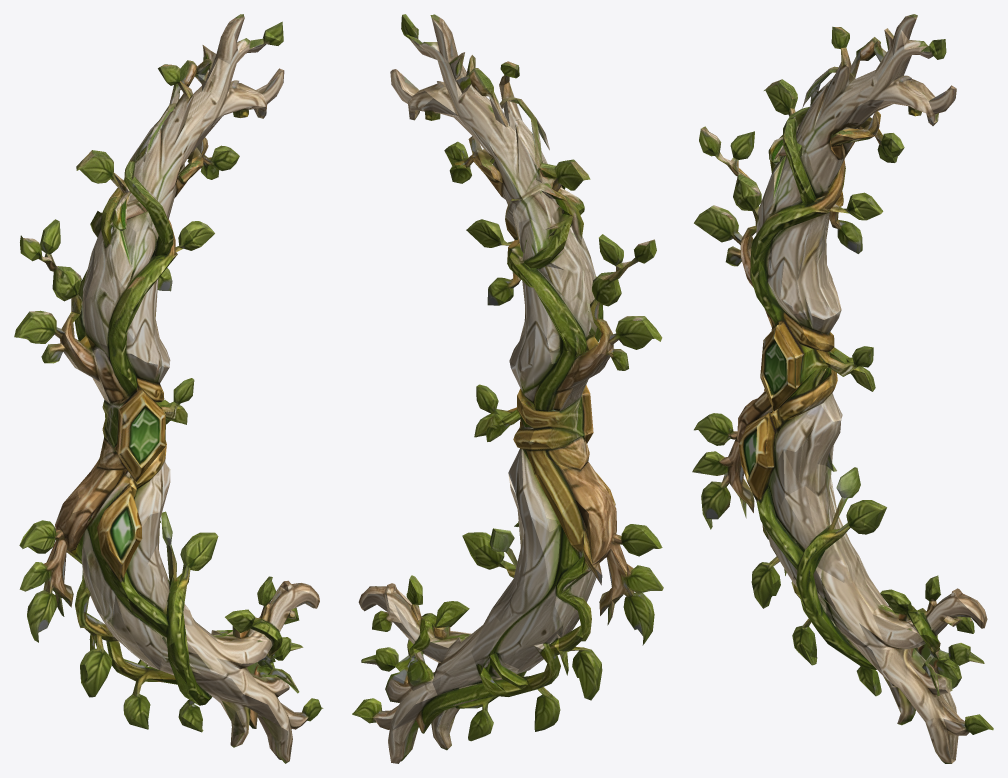
File: dawnpiercer_bow.glb
3 views of the same model, side by side, from view 1: azimuth 30°, elevation 25°; view 2: azimuth 150°, elevation 25°; view 3: azimuth 330°, elevation 25° (orthographic). The views are drawn at different scales.
Bounding box in the file's own units: 0.8097 × 1.9 × 0.2242.
1 material, 1 textured.
